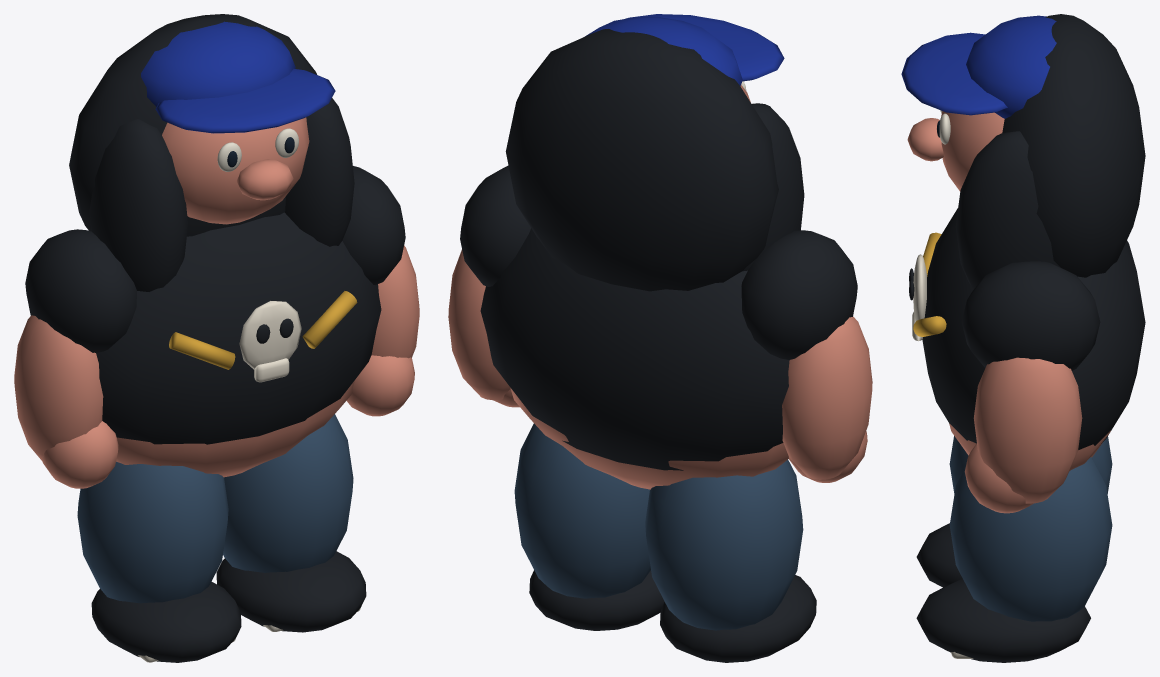
Rendered from wurstii-hoagie.glb.
3 views of the same model, side by side, from view 1: azimuth 30°, elevation 25°; view 2: azimuth 150°, elevation 25°; view 3: azimuth 270°, elevation 25° (orthographic). The views are drawn at different scales.
Visible parts, largest first — view 1: wurstii-hoagie_geometry; view 2: wurstii-hoagie_geometry; view 3: wurstii-hoagie_geometry.
Boxes of the visible parts, box(x1,y1,x2,y2) form: wurstii-hoagie_geometry: box(14, 14, 419, 662); wurstii-hoagie_geometry: box(448, 14, 872, 662); wurstii-hoagie_geometry: box(901, 14, 1145, 662).
Size of the model in its own units: 0.54 by 0.7812 by 0.2916.
